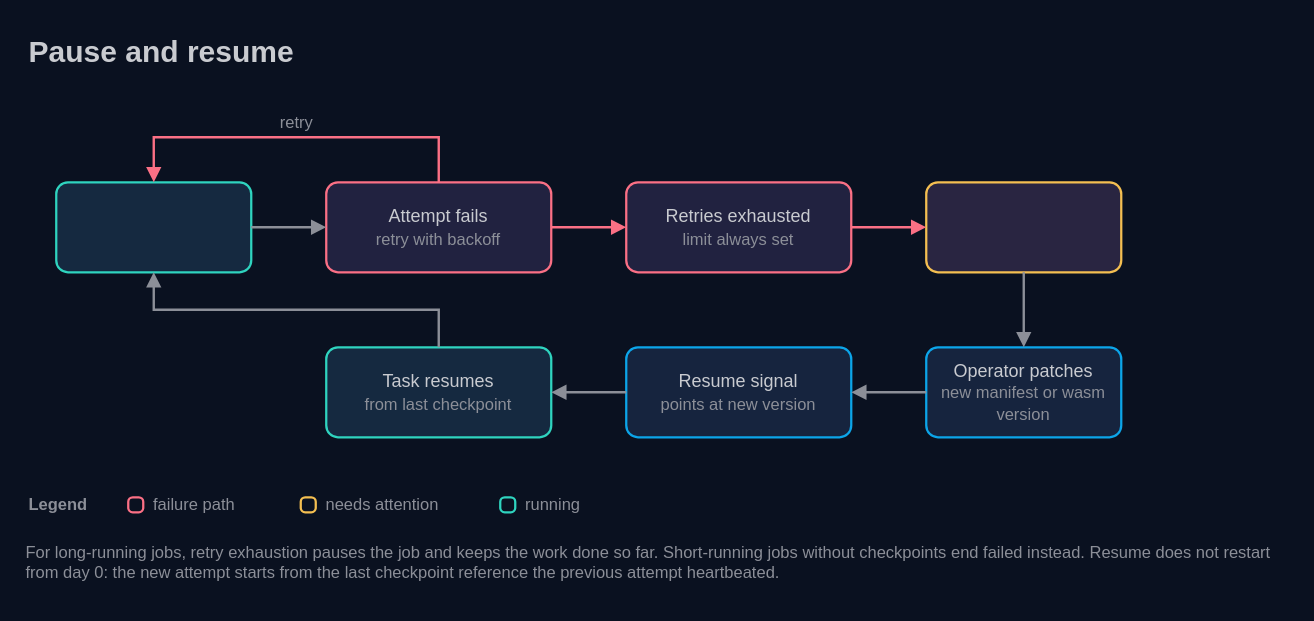
The diagram is 1314 pixels wide and 621 high, and some of its shapes have lost their labels. The centre of each missing label's shape, as x and y in pixels:
"Job paused needs attention" goes at (x=1023, y=226).
"Task running heartbeats checkpoint" goes at (x=153, y=226).
